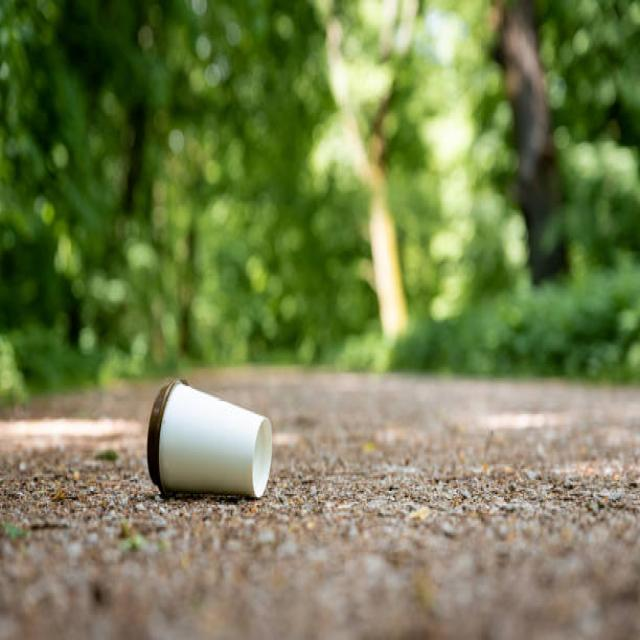paper_cup: (132, 353, 282, 512)
